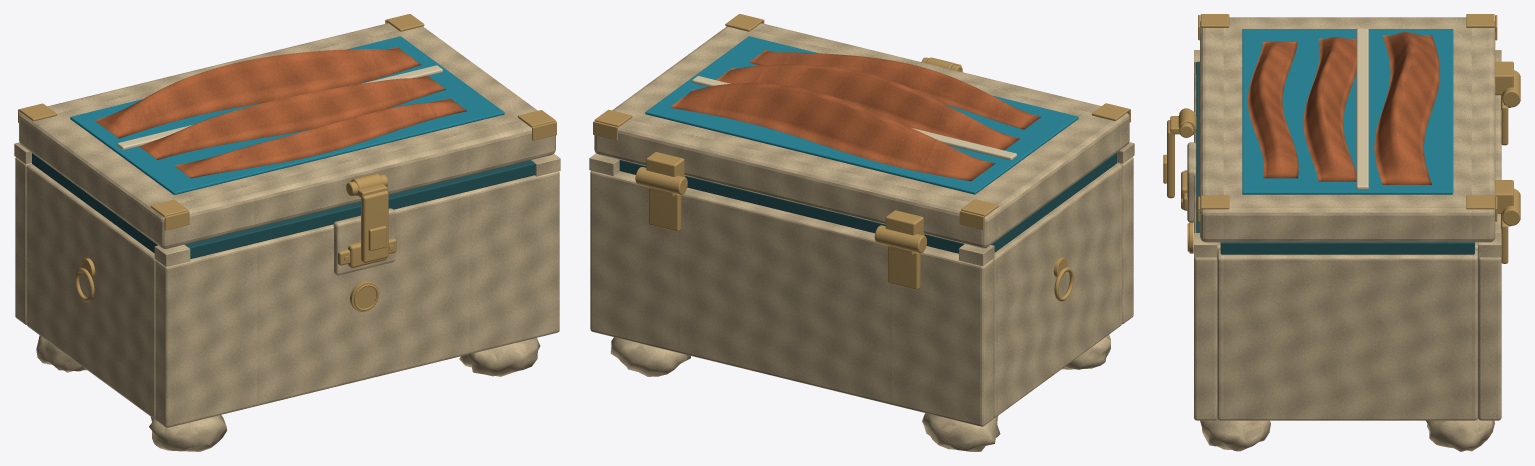
Rendered from somalia.glb.
3 renders of one model, left to right at view 1: azimuth 30°, elevation 25°; view 2: azimuth 150°, elevation 25°; view 3: azimuth 270°, elevation 25°, orthographic.
Visible parts, largest first — view 1: Limestone / long wall, Lid / polished slab, Limestone / end wall, Merka dune / ridge 0, Ocean / inlay, Merka dune / ridge 1, Merka dune / ridge 2, Mineral seam / long, Limestone foot, Limestone foot.002, Limestone / long wall.001, Latch / lifting hasp (+6 smaller); view 2: Limestone / long wall.001, Lid / polished slab, Limestone / end wall, Merka dune / ridge 0, Ocean / inlay, Merka dune / ridge 1, Merka dune / ridge 2, Mineral seam / long.001, Limestone foot.001, Limestone / long wall, Limestone foot.003, Mineral seam / side (+10 smaller); view 3: Limestone / end wall.001, Lid / polished slab, Ocean / inlay, Merka dune / ridge 0, Merka dune / ridge 1, Merka dune / ridge 2, Limestone / long wall.001, Limestone / long wall, Mineral seam / side.001, Shore / coastal edge, Limestone foot.002, Limestone foot.003 (+13 smaller).
Boxes of the visible parts, left/top/right/bottom form: Limestone / long wall: left=155, top=171, right=559, bottom=427; Lid / polished slab: left=19, top=23, right=555, bottom=248; Limestone / end wall: left=26, top=164, right=155, bottom=419; Merka dune / ridge 0: left=94, top=47, right=421, bottom=138; Ocean / inlay: left=70, top=36, right=504, bottom=194; Merka dune / ridge 1: left=139, top=75, right=445, bottom=159; Merka dune / ridge 2: left=174, top=98, right=466, bottom=178; Mineral seam / long: left=184, top=160, right=535, bottom=258; Limestone foot: left=149, top=415, right=226, bottom=451; Limestone foot.002: left=459, top=338, right=540, bottom=376; Limestone / long wall.001: left=15, top=157, right=31, bottom=324; Latch / lifting hasp: left=361, top=190, right=388, bottom=262; Limestone / long wall.001: left=590, top=170, right=993, bottom=426; Lid / polished slab: left=594, top=23, right=1129, bottom=248; Limestone / end wall: left=993, top=163, right=1121, bottom=418; Merka dune / ridge 0: left=670, top=83, right=995, bottom=181; Ocean / inlay: left=645, top=36, right=1078, bottom=194; Merka dune / ridge 1: left=716, top=64, right=1020, bottom=150; Merka dune / ridge 2: left=749, top=50, right=1040, bottom=129; Mineral seam / long.001: left=619, top=160, right=964, bottom=253; Limestone foot.001: left=922, top=413, right=1000, bottom=451; Limestone / long wall: left=1117, top=157, right=1133, bottom=324; Limestone foot.003: left=610, top=337, right=690, bottom=376; Mineral seam / side: left=991, top=153, right=1116, bottom=252; Limestone / end wall.001: left=1217, top=249, right=1477, bottom=420; Lid / polished slab: left=1200, top=17, right=1495, bottom=242; Ocean / inlay: left=1242, top=29, right=1453, bottom=194; Merka dune / ridge 0: left=1374, top=31, right=1440, bottom=184; Merka dune / ridge 1: left=1303, top=36, right=1356, bottom=181; Merka dune / ridge 2: left=1248, top=41, right=1298, bottom=178; Limestone / long wall.001: left=1478, top=95, right=1501, bottom=420; Limestone / long wall: left=1194, top=74, right=1217, bottom=420; Mineral seam / side.001: left=1220, top=242, right=1474, bottom=254; Shore / coastal edge: left=1356, top=28, right=1368, bottom=189; Limestone foot.002: left=1200, top=418, right=1270, bottom=451; Limestone foot.003: left=1426, top=419, right=1494, bottom=451.
Bounding box in the file's own units: 3.79 × 2.64 × 2.88.
Materials: 6 (2 with a texture image).
